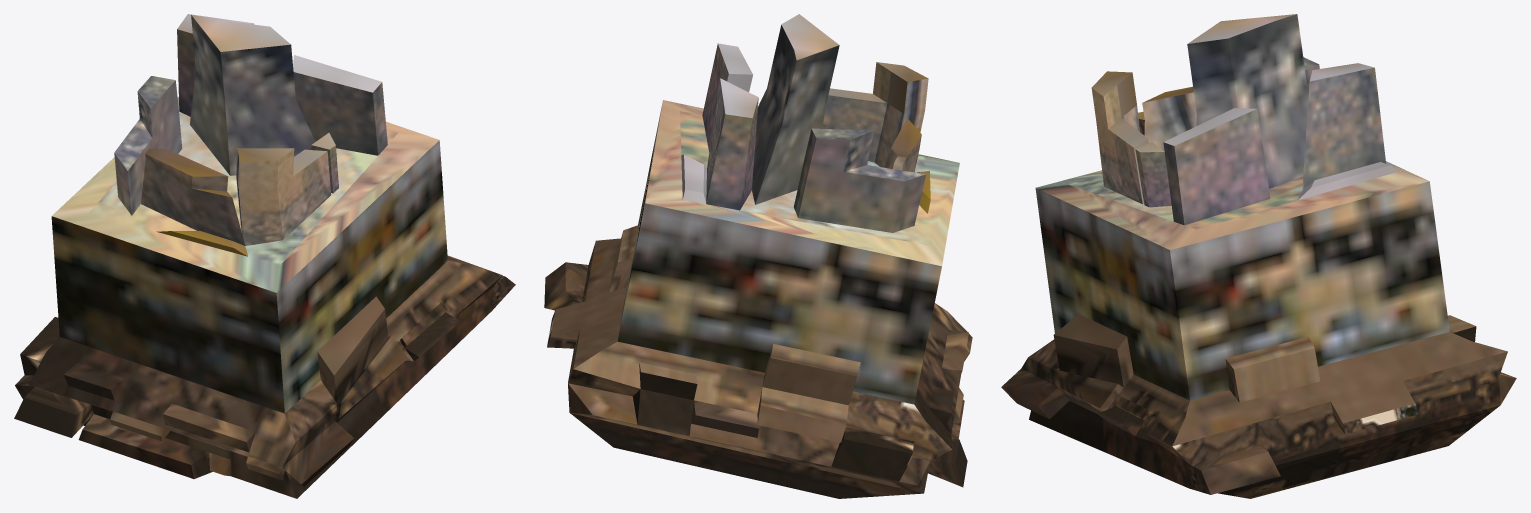
File: Barracks3.fbx
3 renders of one model, left to right at view 1: azimuth 30°, elevation 25°; view 2: azimuth 150°, elevation 25°; view 3: azimuth 270°, elevation 25°, orthographic. The views are drawn at different scales.
Parts seen in each view (by area): view 1: Cube_010.002; view 2: Cube_010.002; view 3: Cube_010.002.
Part boxes in pixels (x1,y1,x2,y2): Cube_010.002: (14,14,515,498); Cube_010.002: (544,14,972,498); Cube_010.002: (1001,14,1516,498).
Size of the model in its own units: 69.38 by 59.05 by 63.68.
